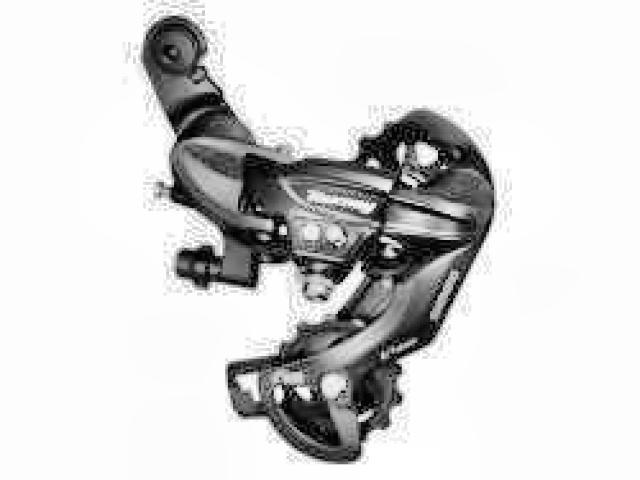rear_derailleur: (138, 13, 505, 465)
